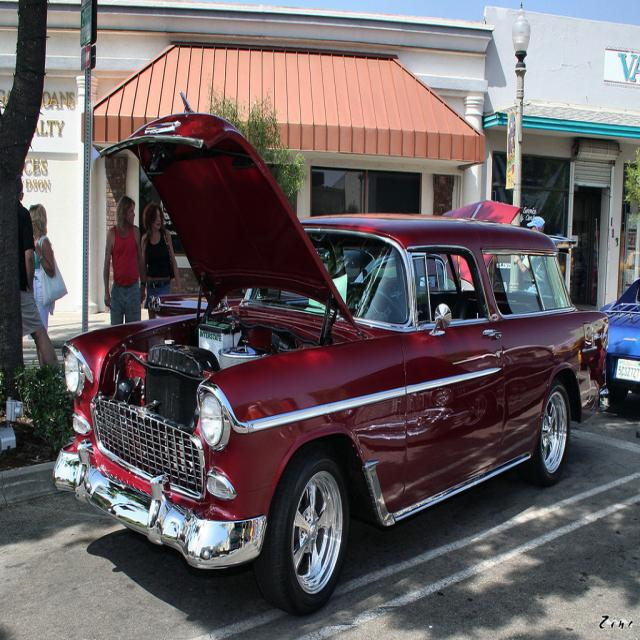other: (80, 174, 592, 614), (306, 193, 524, 309), (146, 243, 367, 321), (596, 275, 639, 419)
